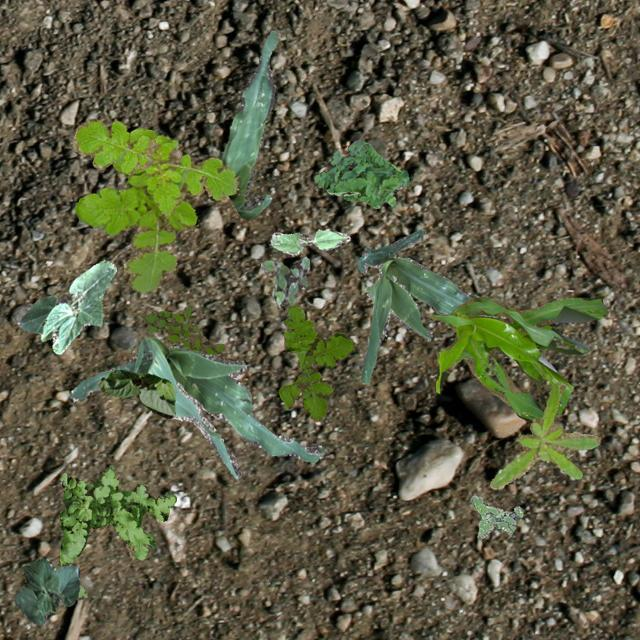crop: (68, 336, 324, 478), (430, 296, 608, 422), (355, 228, 493, 384), (220, 29, 278, 218), (16, 258, 116, 352), (13, 558, 78, 624), (98, 368, 174, 418), (270, 228, 350, 255)
weed: (74, 126, 195, 294), (71, 118, 238, 215), (58, 466, 175, 598), (488, 382, 600, 488), (278, 304, 352, 420), (312, 140, 408, 208), (144, 304, 224, 354), (260, 256, 308, 306), (471, 494, 522, 538)
